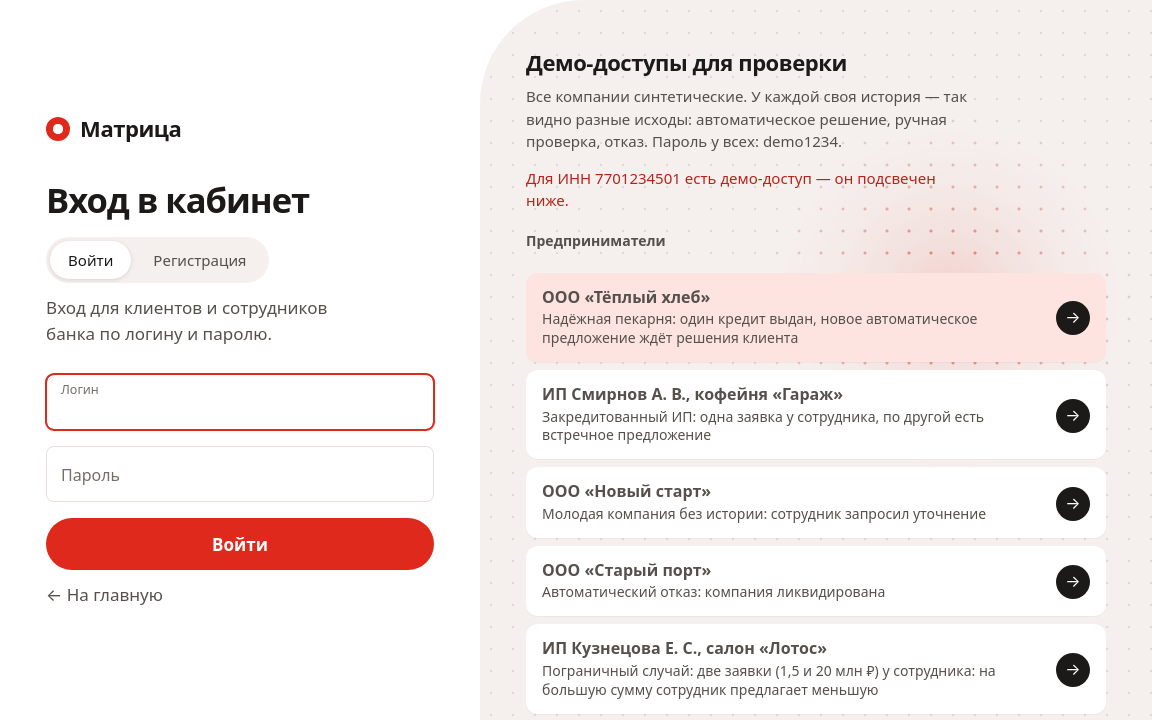
Test case: Login › shows a human message when the password is wrong
The width and height of the screenshot is (1152, 720).
Type "client1" into the field labelled "Логин" at (240, 402), box [46,374,434,430]
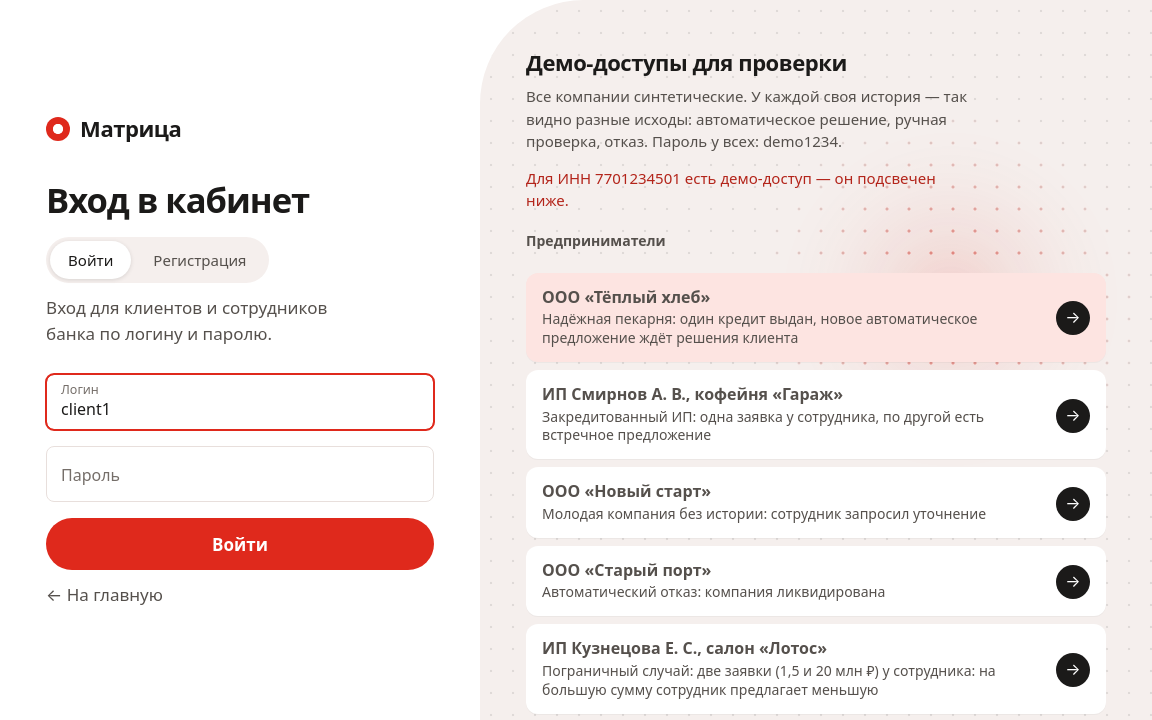
Type "wrong" into the password field labelled "Пароль" at (240, 474), box [46,446,434,502]
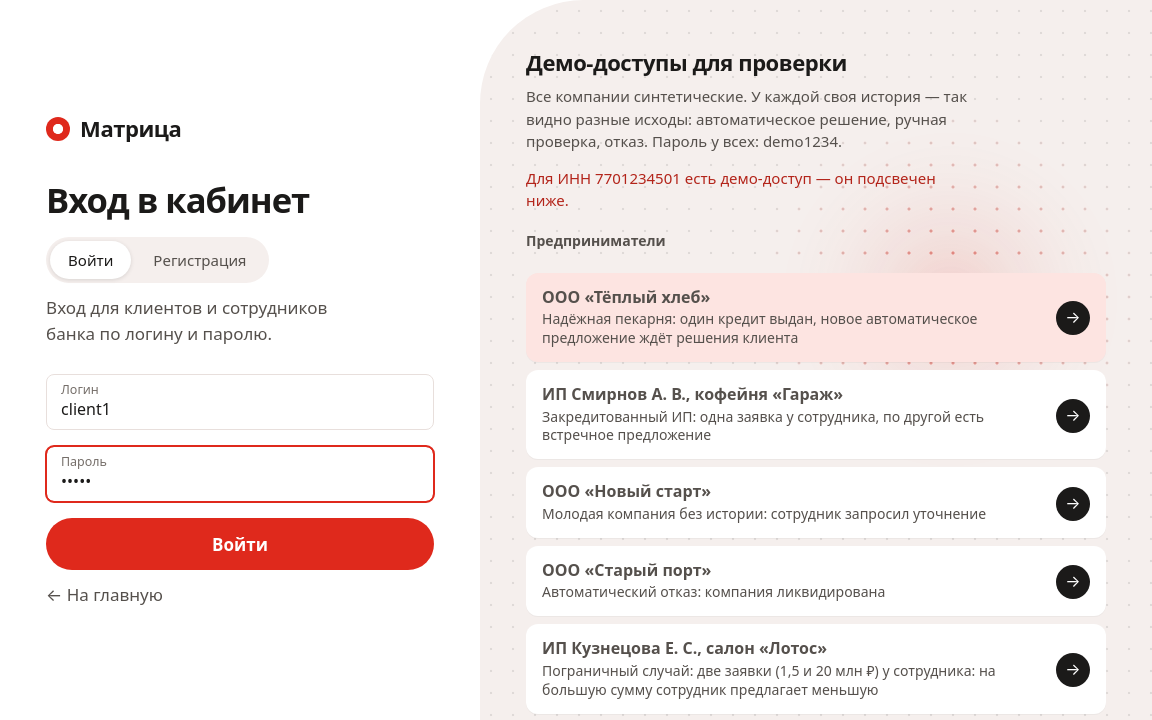
Click the button "Войти" at (240, 544), box [46,518,434,570]
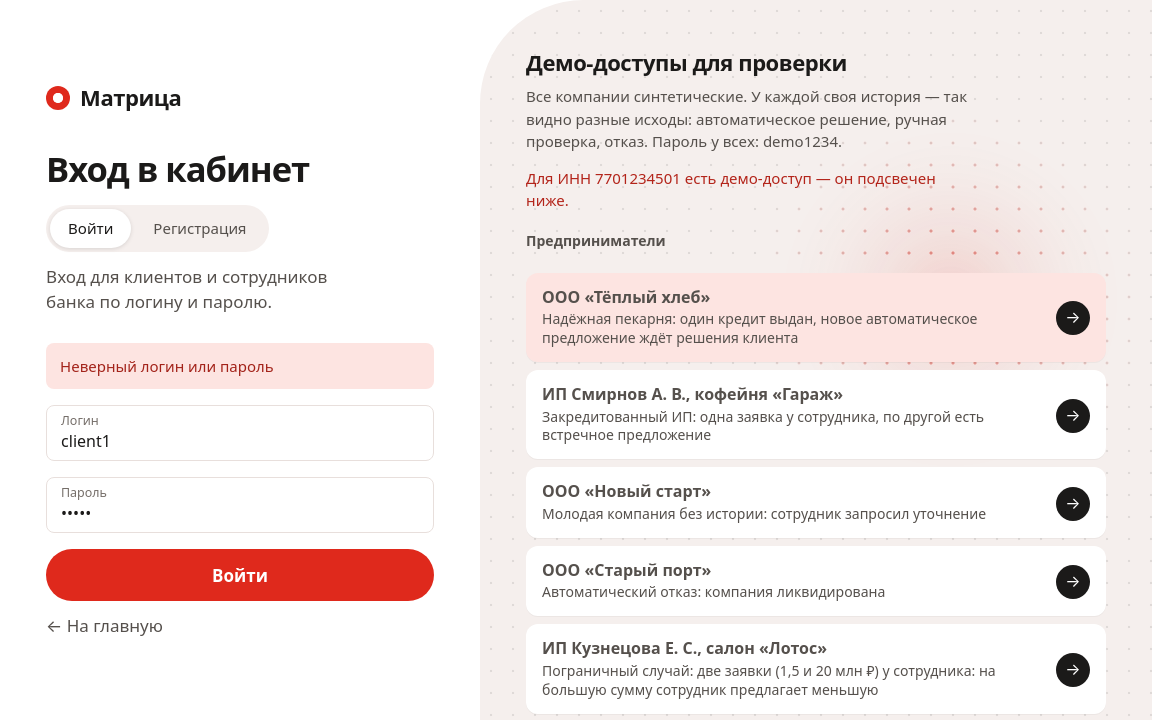
Result: the message reads "Неверный логин или пароль" at [60,356,274,376]
